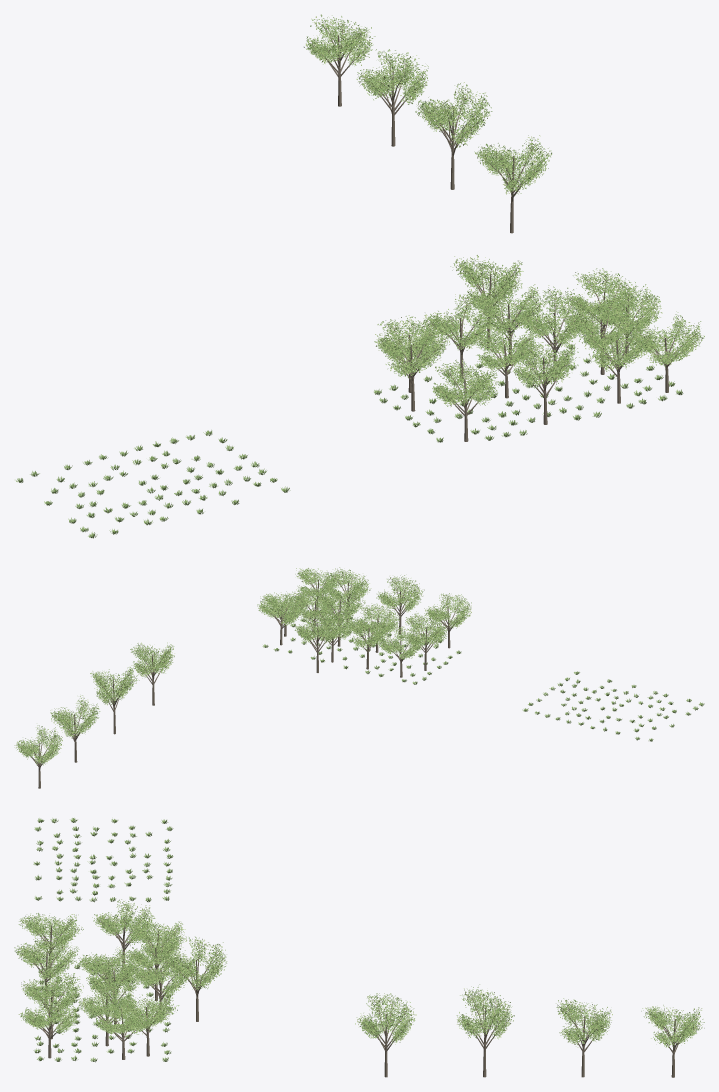
The model's file is 20261103-campus-planting-north-front.glb.
3 renders of one model, top to bottom at view 1: azimuth 30°, elevation 25°; view 2: azimuth 150°, elevation 25°; view 3: azimuth 270°, elevation 25°, orthographic. The views are drawn at different scales.
Parts seen in each view (by area): view 1: Plaza shrub foliage 4, Plaza shrub foliage 3, Tree foliage 13 shade 1, Tree foliage 8 shade 2, Tree foliage 13 shade 2, Tree foliage 13 shade 3, Tree foliage 14 shade 2, Tree foliage 15 shade 2, Tree foliage 8 shade 3, Tree foliage 12 shade 1, Tree foliage 12 shade 0, Tree foliage 12 shade 2 (+18 smaller); view 2: Plaza shrub foliage 3, Plaza shrub foliage 4, Tree foliage 14 shade 1, Tree foliage 12 shade 1, Tree foliage 13 shade 0, Tree foliage 38 shade 0, Tree foliage 13 shade 2, Tree foliage 12 shade 0, Tree foliage 13 shade 1, Tree foliage 12 shade 2, Tree foliage 14 shade 3, Tree foliage 14 shade 0 (+25 smaller); view 3: Plaza shrub foliage 4, Plaza shrub foliage 3, Tree foliage 13 shade 0, Tree foliage 13 shade 3, Tree foliage 13 shade 2, Tree foliage 13 shade 1, Tree foliage 12 shade 0, Tree foliage 14 shade 3, Tree foliage 12 shade 3, Tree foliage 12 shade 2, Tree foliage 12 shade 1, Tree foliage 11 shade 3 (+51 smaller).
Part boxes in pixels (left/top/right/bottom): Plaza shrub foliage 4: left=16, top=336, right=683, bottom=537; Plaza shrub foliage 3: left=15, top=336, right=682, bottom=538; Tree foliage 13 shade 1: left=418, top=84, right=489, bottom=145; Tree foliage 8 shade 2: left=517, top=286, right=588, bottom=344; Tree foliage 13 shade 2: left=415, top=83, right=492, bottom=147; Tree foliage 13 shade 3: left=417, top=82, right=490, bottom=147; Tree foliage 14 shade 2: left=357, top=49, right=428, bottom=103; Tree foliage 15 shade 2: left=304, top=15, right=375, bottom=66; Tree foliage 8 shade 3: left=519, top=285, right=592, bottom=346; Tree foliage 12 shade 1: left=475, top=139, right=550, bottom=195; Tree foliage 12 shade 0: left=474, top=137, right=551, bottom=194; Tree foliage 12 shade 2: left=477, top=135, right=551, bottom=193; Plaza shrub foliage 3: left=263, top=609, right=703, bottom=741; Plaza shrub foliage 4: left=263, top=612, right=704, bottom=741; Tree foliage 14 shade 1: left=51, top=698, right=99, bottom=738; Tree foliage 12 shade 1: left=132, top=645, right=173, bottom=678; Tree foliage 13 shade 0: left=91, top=669, right=137, bottom=704; Tree foliage 38 shade 0: left=376, top=576, right=421, bottom=610; Tree foliage 13 shade 2: left=91, top=665, right=139, bottom=704; Tree foliage 12 shade 0: left=130, top=642, right=174, bottom=675; Tree foliage 13 shade 1: left=90, top=667, right=136, bottom=705; Tree foliage 12 shade 2: left=131, top=643, right=174, bottom=675; Tree foliage 14 shade 3: left=50, top=699, right=97, bottom=736; Tree foliage 14 shade 0: left=50, top=696, right=99, bottom=736; Plaza shrub foliage 4: left=33, top=818, right=173, bottom=1062; Plaza shrub foliage 3: left=34, top=818, right=172, bottom=1061; Tree foliage 13 shade 0: left=457, top=987, right=514, bottom=1038; Tree foliage 13 shade 3: left=457, top=986, right=512, bottom=1037; Tree foliage 13 shade 2: left=456, top=984, right=511, bottom=1038; Tree foliage 13 shade 1: left=459, top=989, right=513, bottom=1039; Tree foliage 12 shade 0: left=359, top=993, right=414, bottom=1042; Tree foliage 14 shade 3: left=558, top=1000, right=612, bottom=1046; Tree foliage 12 shade 3: left=357, top=993, right=416, bottom=1042; Tree foliage 12 shade 2: left=356, top=993, right=414, bottom=1043; Tree foliage 12 shade 1: left=355, top=994, right=415, bottom=1044; Tree foliage 11 shade 3: left=165, top=939, right=225, bottom=988.
Size of the model in its own units: 78.13 by 11.12 by 84.23.
